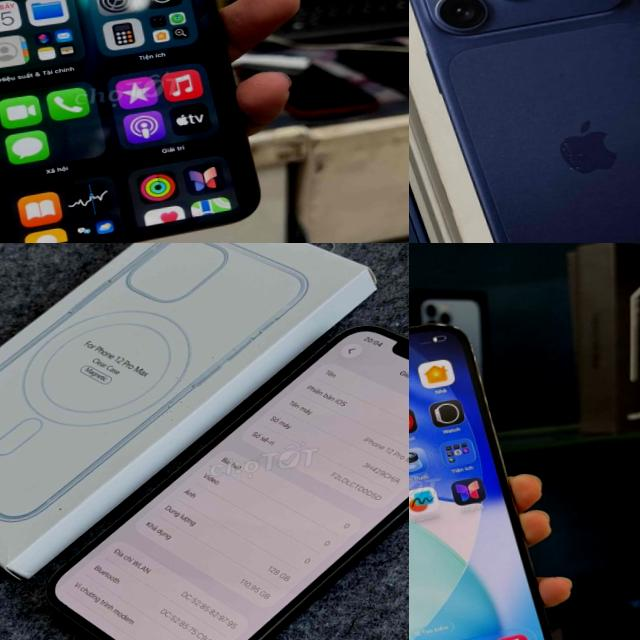gen_12_13: (8, 304, 409, 640), (409, 313, 562, 640)
gen_17: (409, 0, 461, 243)
gen_x_xs: (0, 0, 275, 243)
